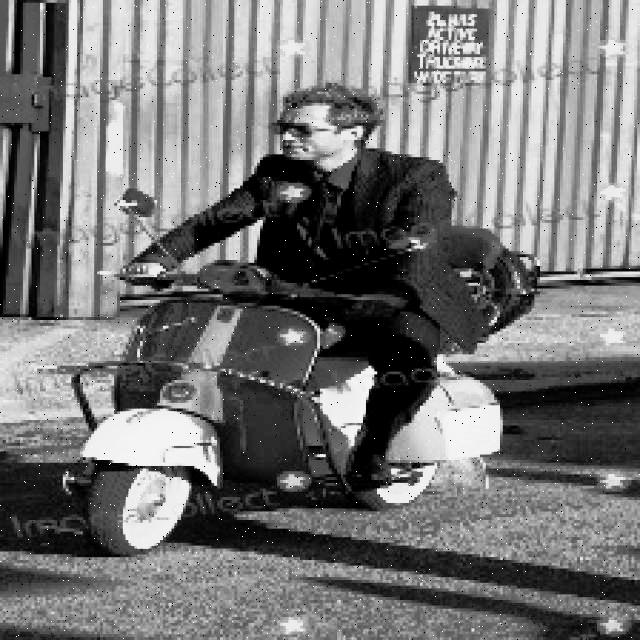Bike: (88, 260, 492, 547)
